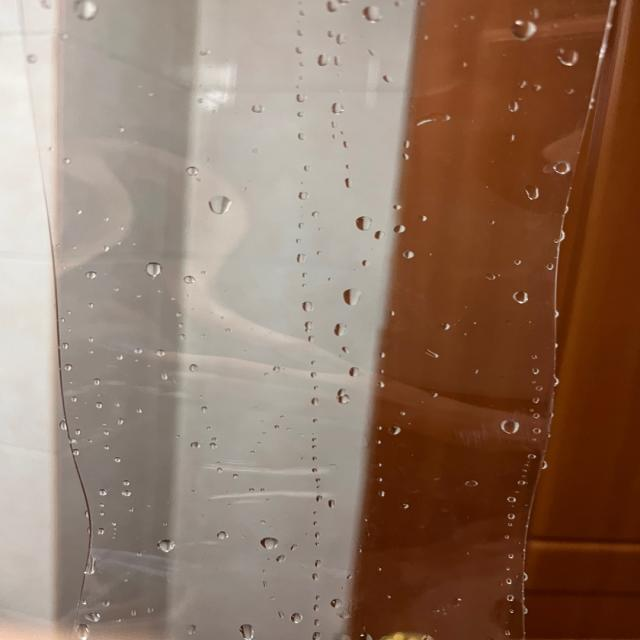raindrop: (59, 0, 102, 24), (496, 17, 533, 43), (498, 94, 530, 118), (508, 280, 536, 307), (554, 46, 582, 68), (202, 194, 234, 213), (353, 214, 381, 235), (514, 182, 543, 202), (341, 286, 364, 309), (134, 262, 163, 280), (362, 3, 389, 22), (545, 226, 570, 246), (502, 415, 522, 440), (417, 340, 436, 362), (335, 390, 356, 409), (338, 364, 360, 382), (181, 356, 200, 376), (154, 366, 176, 383), (289, 610, 311, 626), (343, 177, 363, 193), (305, 207, 326, 222), (288, 187, 314, 199), (331, 324, 350, 340), (291, 89, 312, 103), (315, 0, 337, 13), (324, 102, 346, 115), (232, 627, 258, 638), (158, 538, 178, 552), (85, 611, 106, 624), (96, 488, 112, 505), (84, 558, 102, 573), (302, 300, 320, 315), (176, 275, 194, 289), (560, 157, 578, 171), (74, 623, 94, 634), (312, 58, 330, 70), (376, 72, 394, 84), (302, 164, 313, 182), (259, 538, 286, 545), (212, 533, 229, 544), (389, 426, 402, 440), (120, 486, 134, 498), (333, 600, 349, 610), (294, 252, 307, 264), (296, 129, 310, 140), (308, 628, 332, 634), (94, 526, 114, 533)
